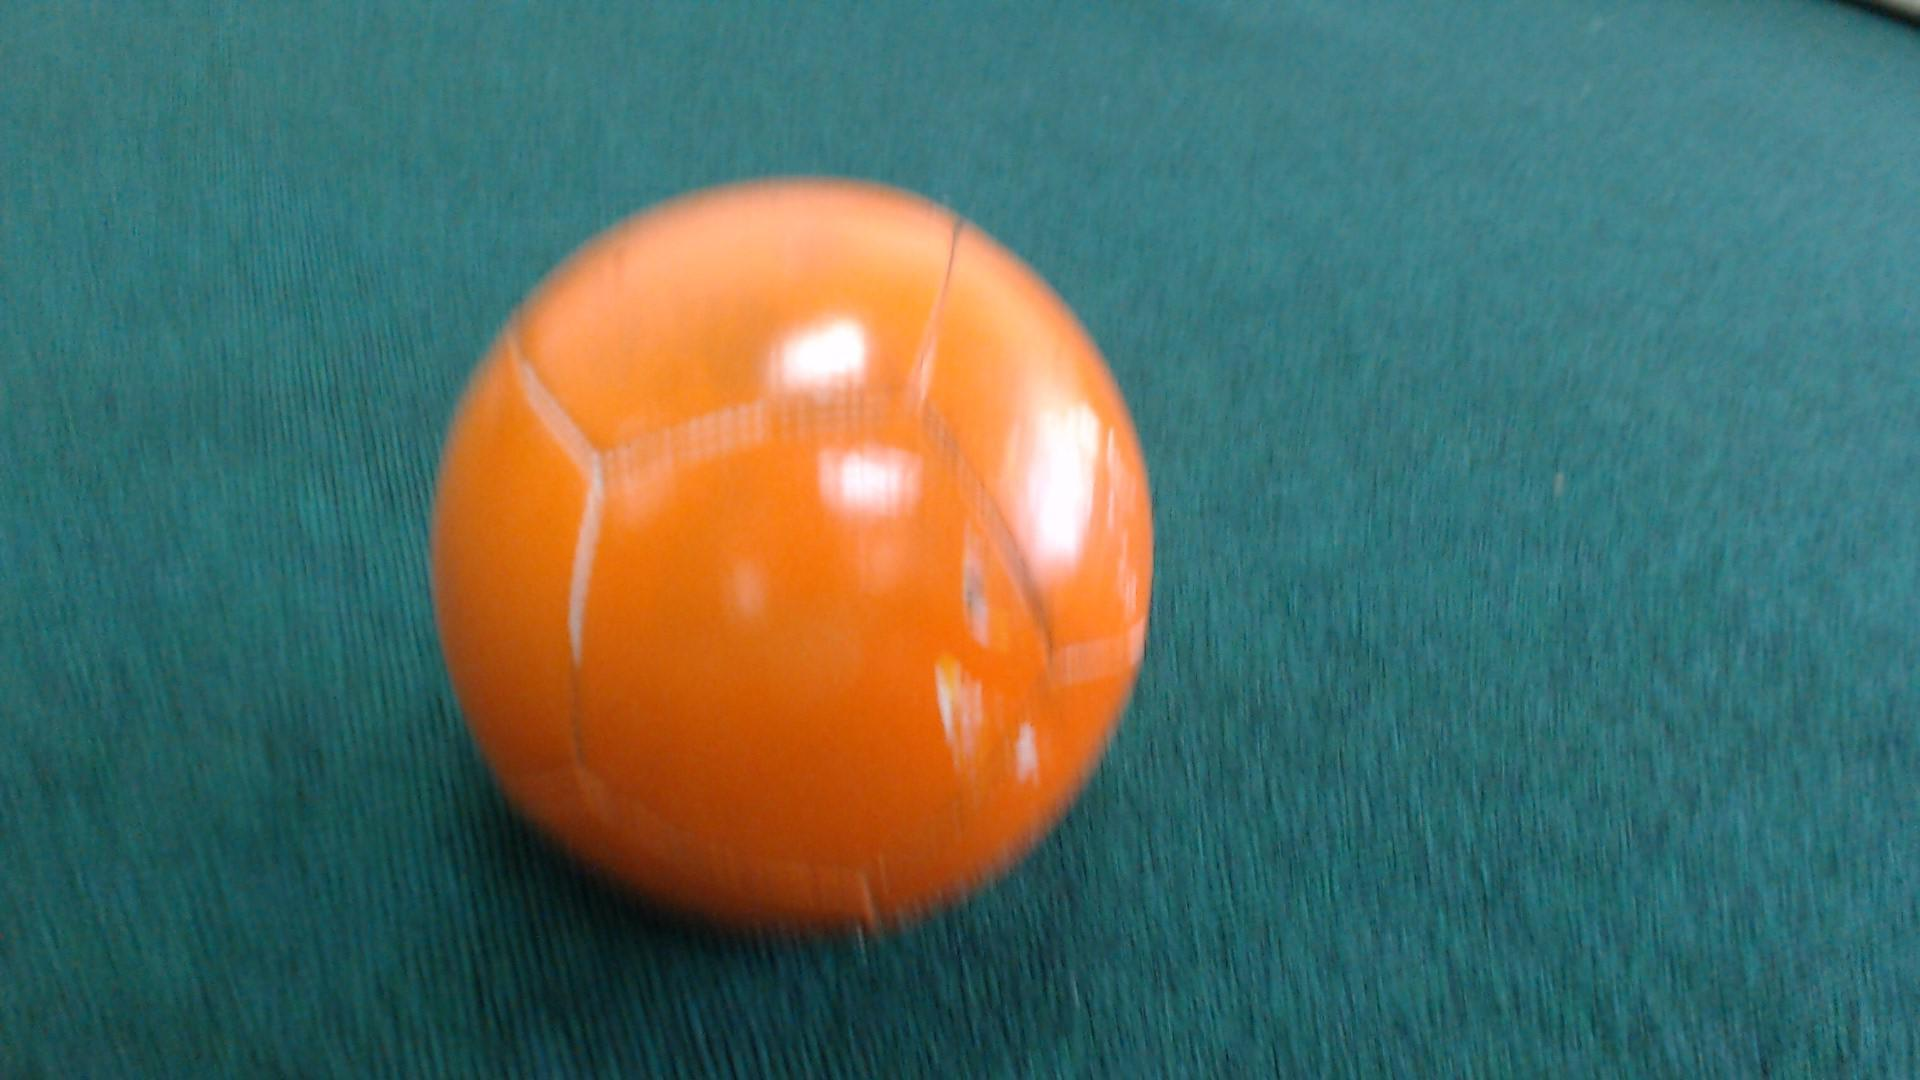bola: (392, 138, 1205, 955)
